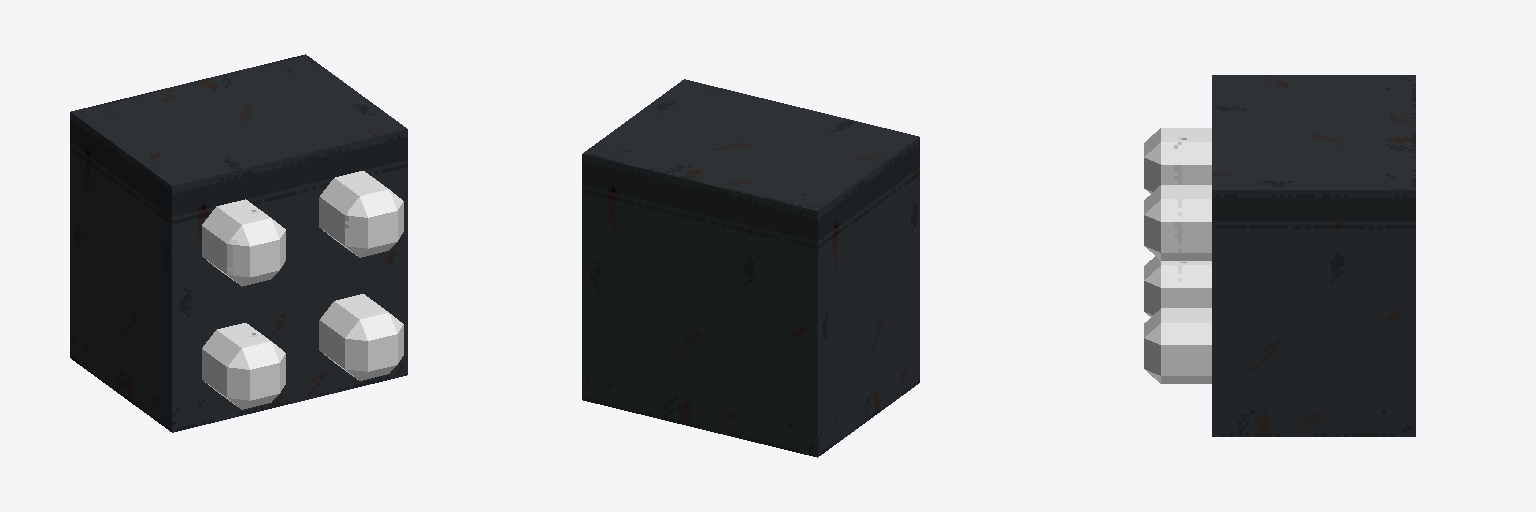
3 views of the same model, side by side, from view 1: azimuth 30°, elevation 25°; view 2: azimuth 150°, elevation 25°; view 3: azimuth 270°, elevation 25° (orthographic).
Parts seen in each view (by area): view 1: PlugCube; view 2: PlugCube; view 3: PlugCube.
Boxes of the visible parts, x1=… form: PlugCube: x1=70, y1=54, x2=407, y2=432; PlugCube: x1=582, y1=79, x2=919, y2=457; PlugCube: x1=1144, y1=75, x2=1415, y2=436.
Bounding box in the file's own units: 1 × 1 × 1.
Materials: 2 (2 with a texture image).